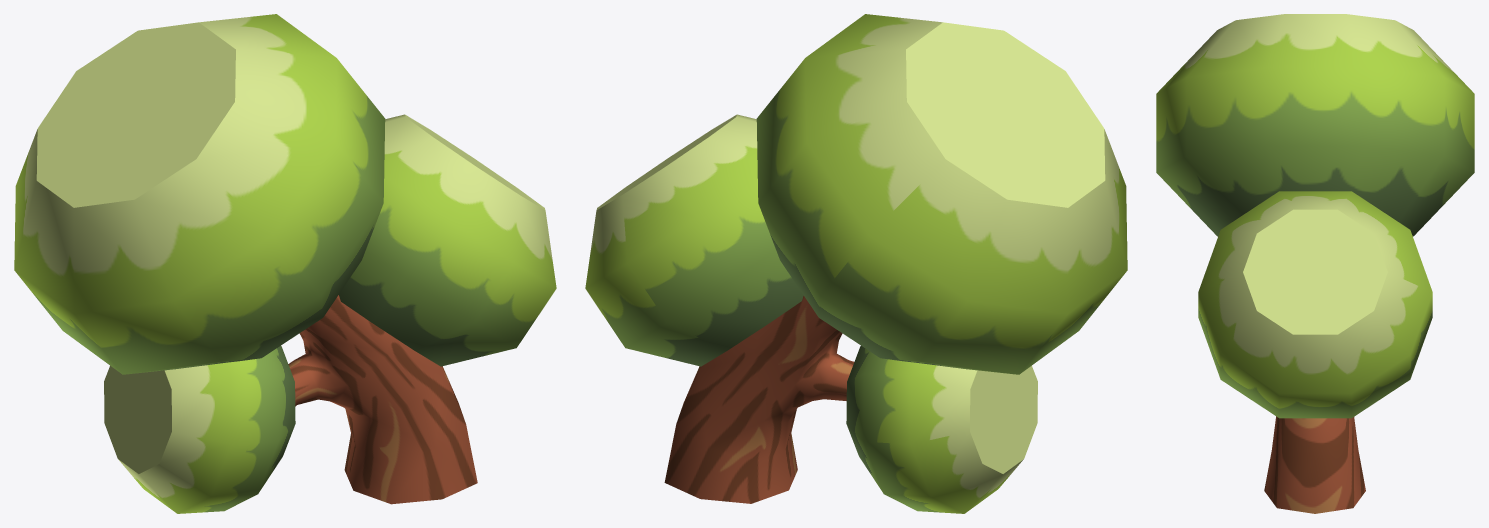
The model's file is arvore04.FBX.
3 views of the same model, side by side, from view 1: azimuth 30°, elevation 25°; view 2: azimuth 150°, elevation 25°; view 3: azimuth 270°, elevation 25° (orthographic). The views are drawn at different scales.
Parts seen in each view (by area): view 1: folhasArvore007, folhasArvore008, folhasArvore009, troncoArvore004; view 2: folhasArvore007, folhasArvore008, folhasArvore009, troncoArvore004; view 3: folhasArvore007, folhasArvore008, troncoArvore004.
Part boxes in pixels (box(x1,y1,x2,y2)): folhasArvore007: box(14, 14, 385, 374); folhasArvore008: box(339, 114, 556, 366); folhasArvore009: box(104, 346, 295, 513); troncoArvore004: box(288, 295, 477, 504); folhasArvore007: box(756, 14, 1127, 374); folhasArvore008: box(585, 114, 803, 366); folhasArvore009: box(846, 346, 1037, 513); troncoArvore004: box(664, 296, 854, 503); folhasArvore007: box(1156, 14, 1474, 236); folhasArvore008: box(1198, 191, 1432, 418); troncoArvore004: box(1264, 416, 1365, 513).
Size of the model in its own units: 206 by 196 by 142.
